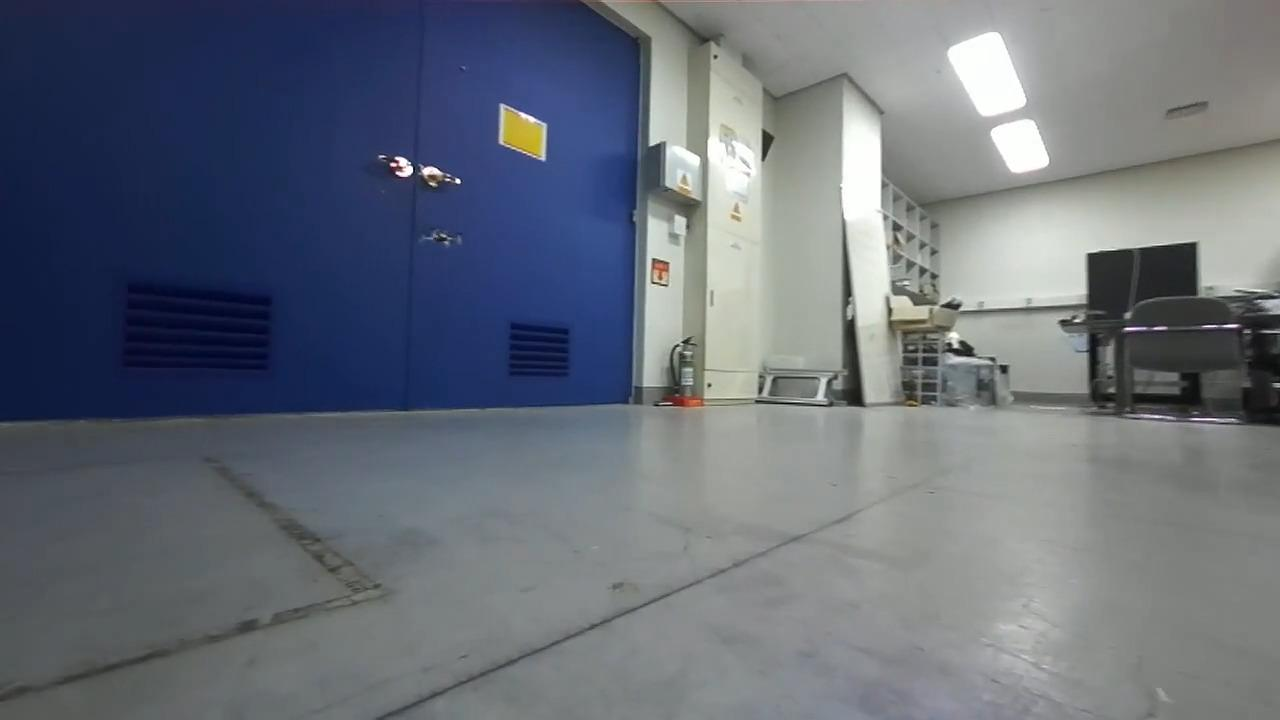crazyflie: (411, 221, 469, 254)
